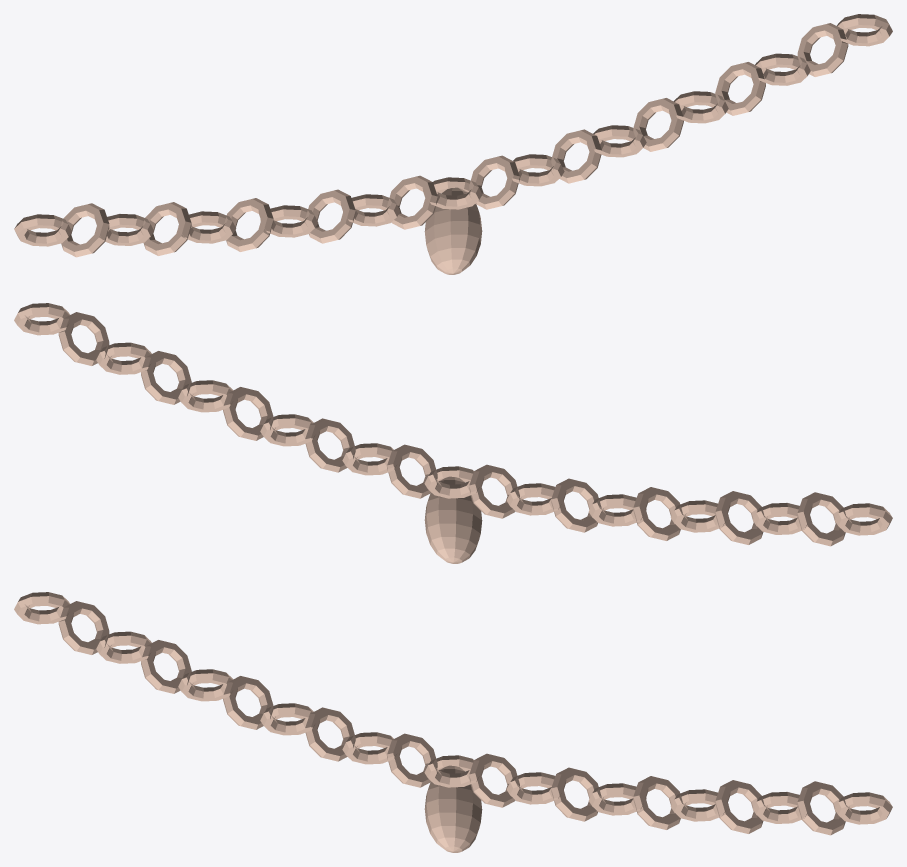
Rendered from necklace-chain.glb.
The picture shows the model from 3 angles, top to bottom: view 1: azimuth 30°, elevation 25°; view 2: azimuth 150°, elevation 25°; view 3: azimuth 330°, elevation 25°; orthographic projection.
Parts seen in each view (by area): view 1: necklace-chain; view 2: necklace-chain; view 3: necklace-chain.
Part boxes in pixels (x1,y1,x2,y2): necklace-chain: (14, 14, 892, 274); necklace-chain: (14, 303, 892, 563); necklace-chain: (14, 592, 892, 852).
Size of the model in its own units: 0.361 by 0.0629 by 0.02.
